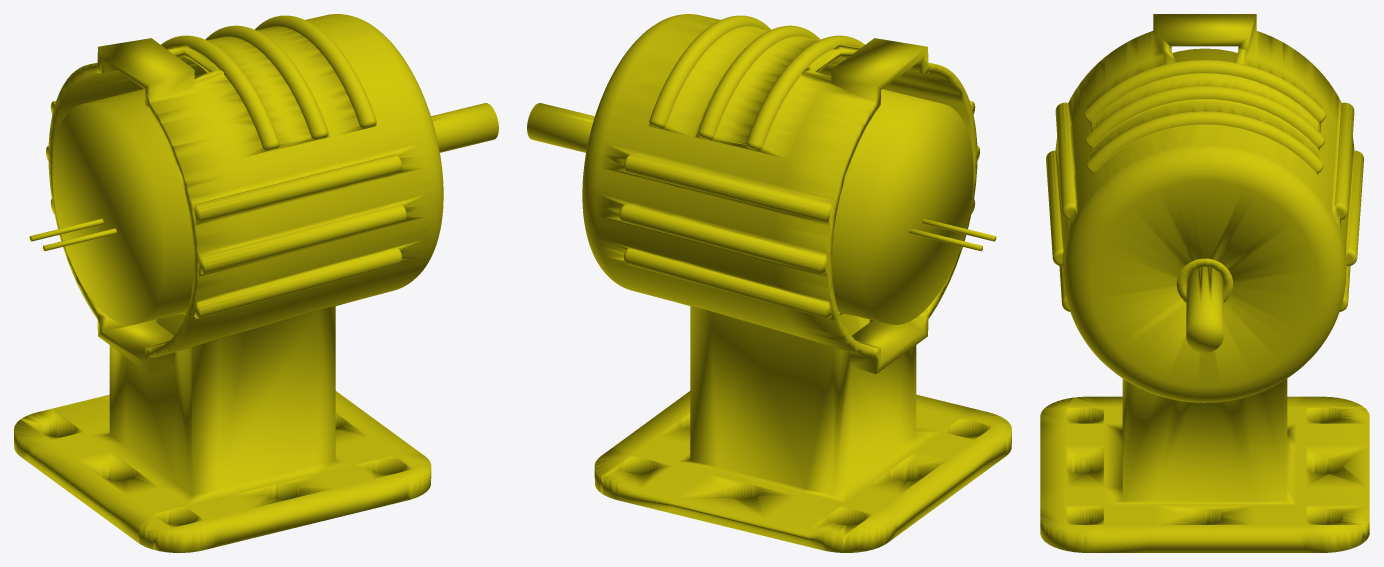
3 renders of one model, left to right at view 1: azimuth 30°, elevation 25°; view 2: azimuth 150°, elevation 25°; view 3: azimuth 270°, elevation 25°, orthographic.
Parts seen in each view (by area): view 1: defaultobject; view 2: defaultobject; view 3: defaultobject.
Boxes of the visible parts, x1,y1,x2,y2 form: defaultobject: (14, 14, 498, 552); defaultobject: (527, 14, 1011, 552); defaultobject: (1040, 14, 1369, 552).
Bounding box in the file's own units: 137 × 123 × 87.15.
